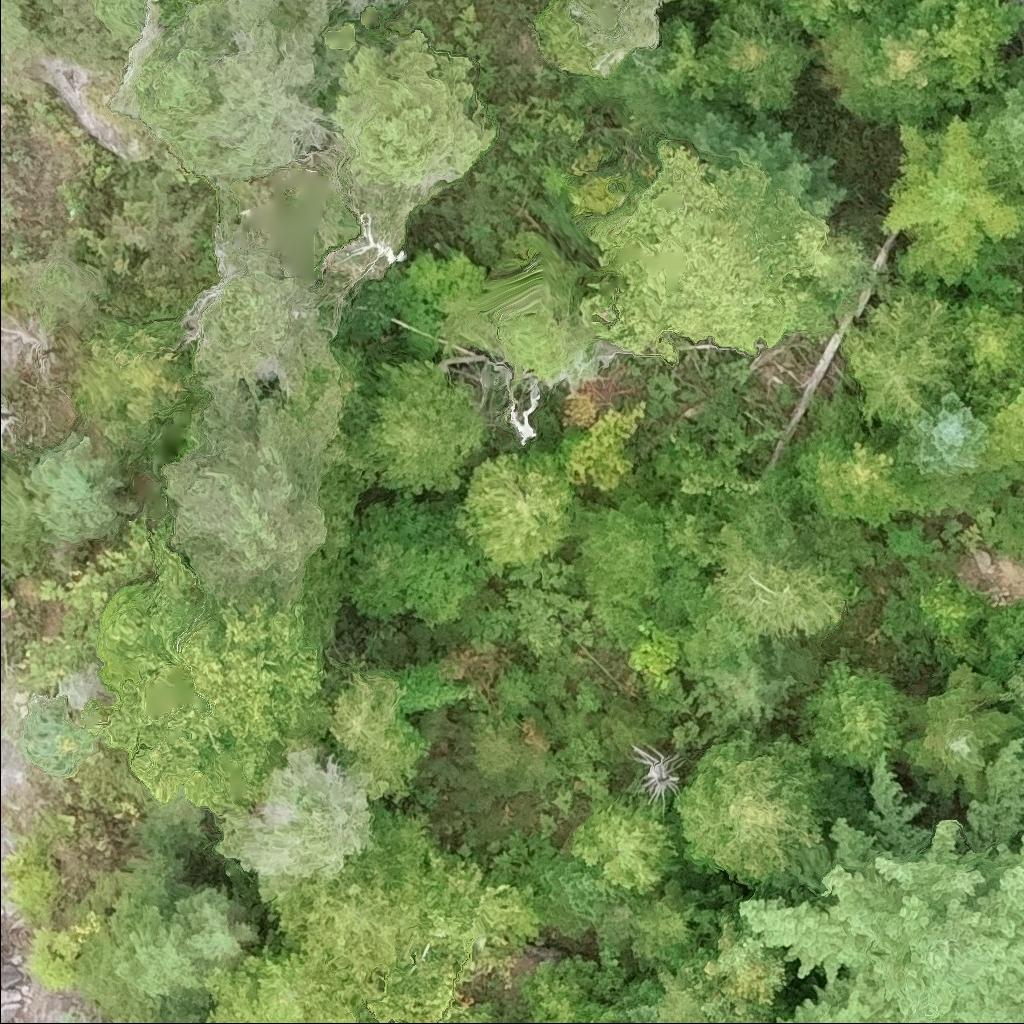crown: (737, 737, 1023, 1023), (92, 516, 329, 818), (580, 139, 888, 361), (267, 802, 541, 1023), (158, 357, 360, 609), (109, 0, 356, 179), (662, 721, 833, 894), (331, 20, 498, 187), (213, 743, 381, 909), (881, 111, 1023, 295), (106, 880, 263, 1015), (334, 359, 488, 496), (820, 0, 962, 131), (840, 287, 968, 432), (896, 663, 1023, 809), (707, 519, 850, 636), (453, 444, 578, 565), (201, 940, 379, 1023), (21, 430, 143, 542), (698, 0, 817, 113), (570, 485, 672, 614), (679, 642, 798, 752), (796, 660, 909, 775), (791, 424, 917, 527), (568, 791, 685, 898), (330, 673, 435, 792), (71, 317, 186, 425), (896, 388, 993, 480), (620, 872, 708, 971), (526, 849, 620, 939), (965, 54, 1023, 196), (568, 0, 673, 73), (668, 585, 751, 670), (951, 302, 1023, 397), (459, 708, 530, 804), (652, 490, 724, 575), (966, 370, 1023, 465), (916, 570, 994, 638), (752, 0, 877, 36), (627, 742, 685, 811), (644, 560, 703, 627), (280, 0, 374, 36), (610, 977, 665, 1023), (111, 1006, 204, 1023), (996, 658, 1023, 713), (573, 998, 629, 1023), (905, 0, 954, 24), (680, 0, 740, 10), (374, 0, 409, 10)
